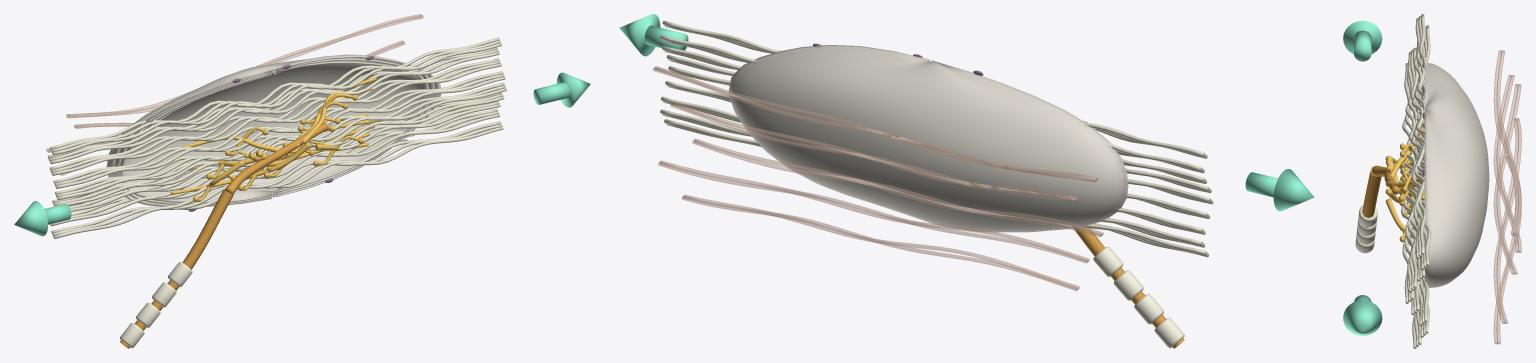
Rendered from ruffini-Bn6ZgBFm.glb.
3 views of the same model, side by side, from view 1: azimuth 30°, elevation 25°; view 2: azimuth 150°, elevation 25°; view 3: azimuth 270°, elevation 25° (orthographic). The views are drawn at different scales.
Visible parts, largest first — view 1: ruffini__collagen__01, ruffini__capsule__01, ruffini__branched-ending__02, ruffini__dermis__01, ruffini__myelin__01, ruffini__axon__01, ruffini__branched-ending__01, ruffini__stimulus-left__02, ruffini__stimulus-right__01, ruffini__stimulus-right__02; view 2: ruffini__capsule__01, ruffini__dermis__01, ruffini__collagen__01, ruffini__myelin__01, ruffini__stimulus-left__02, ruffini__stimulus-right__02, ruffini__axon__01, ruffini__stimulus-right__01, ruffini__stimulus-left__01; view 3: ruffini__capsule__01, ruffini__collagen__01, ruffini__dermis__01, ruffini__branched-ending__02, ruffini__stimulus-right__02, ruffini__myelin__01, ruffini__stimulus-left__02, ruffini__axon__01, ruffini__stimulus-left__01, ruffini__branched-ending__01.
Part boxes in pixels (box(x1,y1,x2,y2)): ruffini__collagen__01: box(47, 37, 506, 238); ruffini__capsule__01: box(106, 54, 441, 206); ruffini__branched-ending__02: box(170, 77, 382, 202); ruffini__dermis__01: box(46, 14, 423, 195); ruffini__myelin__01: box(120, 262, 192, 348); ruffini__axon__01: box(120, 190, 233, 348); ruffini__branched-ending__01: box(225, 123, 328, 194); ruffini__stimulus-left__02: box(14, 201, 47, 236); ruffini__stimulus-right__01: box(533, 82, 569, 104); ruffini__stimulus-right__02: box(557, 72, 590, 107); ruffini__capsule__01: box(728, 45, 1128, 232); ruffini__dermis__01: box(653, 66, 1103, 290); ruffini__collagen__01: box(660, 20, 1213, 257); ruffini__myelin__01: box(1093, 246, 1184, 348); ruffini__stimulus-left__02: box(1273, 169, 1314, 211); ruffini__stimulus-right__02: box(619, 14, 660, 56); ruffini__axon__01: box(1072, 226, 1184, 348); ruffini__stimulus-right__01: box(644, 25, 688, 50); ruffini__stimulus-left__01: box(1245, 172, 1277, 197); ruffini__capsule__01: box(1424, 63, 1489, 287); ruffini__collagen__01: box(1401, 14, 1431, 348); ruffini__dermis__01: box(1493, 50, 1521, 344); ruffini__branched-ending__02: box(1385, 118, 1424, 242); ruffini__stimulus-right__02: box(1343, 300, 1382, 335); ruffini__myelin__01: box(1355, 205, 1377, 253); ruffini__stimulus-left__02: box(1343, 20, 1382, 54); ruffini__axon__01: box(1362, 165, 1381, 236); ruffini__stimulus-left__01: box(1354, 30, 1371, 61); ruffini__branched-ending__01: box(1372, 165, 1399, 194).
Size of the model in its own units: 3.68 by 1.33 by 0.9088.
